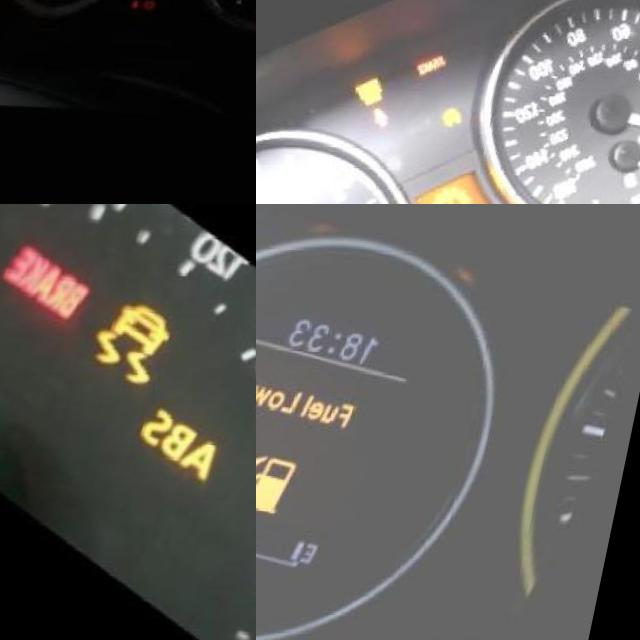Low fuel level: (627, 167, 640, 185)
